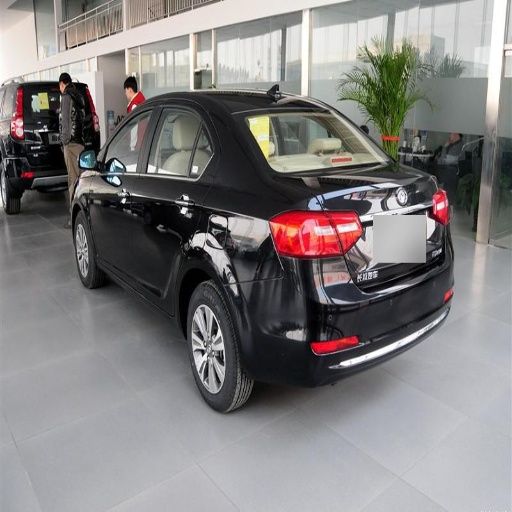back_bumper: (241, 249, 452, 382)
back_glass: (247, 103, 395, 171)
back_left_door: (129, 99, 217, 298)
